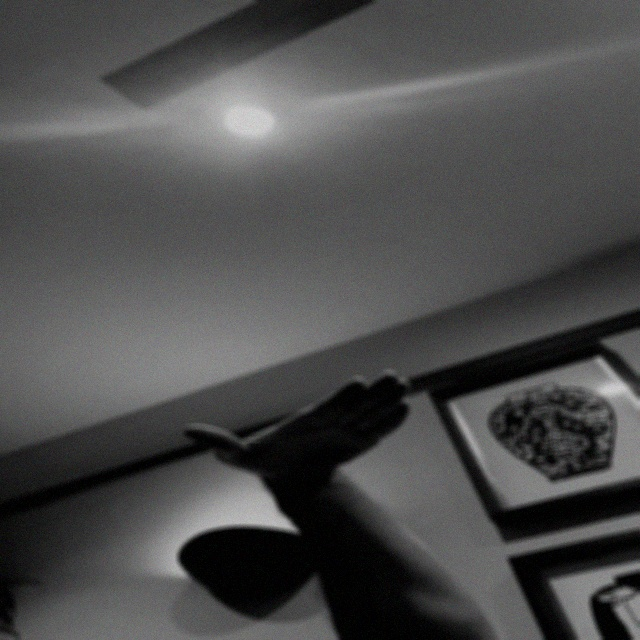Paper: (182, 369, 418, 480)
